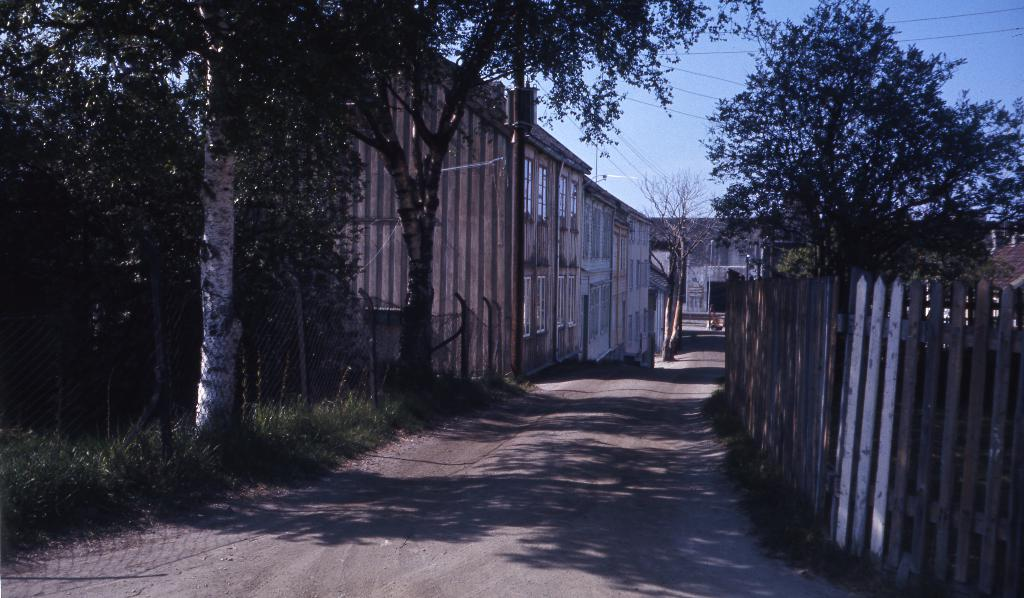Tree: (32, 0, 766, 393), (0, 23, 372, 429), (711, 6, 986, 319), (631, 169, 747, 363), (986, 92, 1023, 260)
